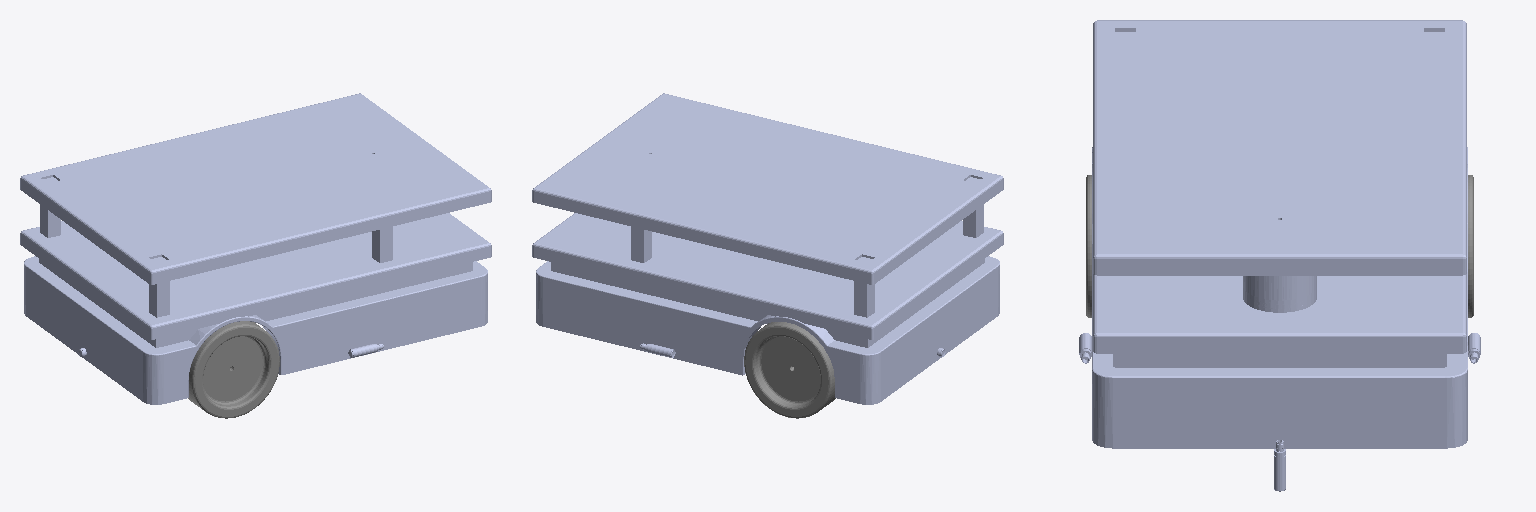
The robot description file, URDF, robot "scooby":
<?xml version="1.0" encoding="utf-8"?>
<!-- This URDF was automatically created by SolidWorks to URDF Exporter! Originally created by Stephen Brawner ([email redacted]) 
     Commit Version: 1.5.1-0-g916b5db  Build Version: 1.5.7152.31018
     For more information, please see http://wiki.ros.org/sw_urdf_exporter -->
<robot
  name="scooby">
  <link
    name="base_link">
    <inertial>
      <origin
        xyz="0.21675 -1.2917E-07 0.11346"
        rpy="0 0 0" />
      <mass
        value="7.4313" />
      <inertia
        ixx="0.31999"
        ixy="2.761E-07"
        ixz="0.014025"
        iyy="0.58221"
        iyz="-3.6194E-08"
        izz="0.76546" />
    </inertial>
    <visual>
      <origin
        xyz="0 0 0"
        rpy="0 0 0" />
      <geometry>
        <mesh
          filename="package://scooby_description/meshes/base_link.STL" />
      </geometry>
      <material
        name="">
        <color
          rgba="0.79216 0.81961 0.93333 1" />
      </material>
    </visual>
    <collision>
      <origin
        xyz="0 0 0"
        rpy="0 0 0" />
      <geometry>
        <mesh
          filename="package://scooby_description/meshes/base_link.STL" />
      </geometry>
    </collision>
  </link>
  <link
    name="Roda_L_Link">
    <inertial>
      <origin
        xyz="-2.81298471846436E-06 -0.00190513014972926 -1.07259302051244E-06"
        rpy="0 0 0" />
      <mass
        value="1.30641276335021" />
      <inertia
        ixx="0.00432108465434952"
        ixy="-7.93594005604532E-08"
        ixz="1.46087059834682E-08"
        iyy="0.00793978090282297"
        iyz="-3.02597946384683E-08"
        izz="0.00432105191183642" />
    </inertial>
    <visual>
      <origin
        xyz="0 0 0"
        rpy="0 0 0" />
      <geometry>
        <mesh
          filename="package://scooby_description/meshes/Roda_L_Link.dae" />
      </geometry>
      <material
        name="">
        <color
          rgba="0.6 0.6 0.6 1" />
      </material>
    </visual>
    <collision>
      <origin
        xyz="0 0 0"
        rpy="0 0 0" />
      <geometry>
        <mesh
          filename="package://scooby_description/meshes/Roda_L_Link.dae" />
      </geometry>
    </collision>
  </link>
  <joint
    name="Roda_L_Joint"
    type="continuous">
    <origin
      xyz="0 0.239 0"
      rpy="0 0 0" />
    <parent
      link="base_link" />
    <child
      link="Roda_L_Link" />
    <axis
      xyz="0 1 0" />
  </joint>
  <link
    name="Roda_R_Link">
    <inertial>
      <origin
        xyz="6.99451203511892E-07 0.00190513014972904 2.92815760366549E-06"
        rpy="0 0 0" />
      <mass
        value="1.30641276335021" />
      <inertia
        ixx="0.00432104871030407"
        ixy="-1.97327870118571E-08"
        ixz="9.91656523344508E-09"
        iyy="0.00793978090282298"
        iyz="-8.2608636027966E-08"
        izz="0.00432108785588188" />
    </inertial>
    <visual>
      <origin
        xyz="0 0 0"
        rpy="0 0 0" />
      <geometry>
        <mesh
          filename="package://scooby_description/meshes/Roda_R_Link.dae" />
      </geometry>
      <material
        name="">
        <color
          rgba="0.6 0.6 0.6 1" />
      </material>
    </visual>
    <collision>
      <origin
        xyz="0 0 0"
        rpy="0 0 0" />
      <geometry>
        <mesh
          filename="package://scooby_description/meshes/Roda_R_Link.dae" />
      </geometry>
    </collision>
  </link>
  <joint
    name="Roda_R_Joint"
    type="continuous">
    <origin
      xyz="0 -0.238999999999999 0"
      rpy="0 0 0" />
    <parent
      link="base_link" />
    <child
      link="Roda_R_Link" />
    <axis
      xyz="0 1 0" />
  </joint>
  <link
    name="Garfo_Link">
    <inertial>
      <origin
        xyz="0.00884475068968896 -4.19566628268031E-05 -0.0263954582097287"
        rpy="0 0 0" />
      <mass
        value="0.0563430319700028" />
      <inertia
        ixx="6.39445038316326E-05"
        ixy="1.72308550886072E-08"
        ixz="1.08977134057462E-05"
        iyy="6.73269867746683E-05"
        iyz="-3.73912351557962E-08"
        izz="2.76031242784496E-05" />
    </inertial>
    <visual>
      <origin
        xyz="0 0 0"
        rpy="0 0 0" />
      <geometry>
        <mesh
          filename="package://scooby_description/meshes/Garfo_Link.STL" />
      </geometry>
      <material
        name="">
        <color
          rgba="0.792156862745098 0.819607843137255 0.933333333333333 1" />
      </material>
    </visual>
    <collision>
      <origin
        xyz="0 0 0"
        rpy="0 0 0" />
      <geometry>
        <mesh
          filename="package://scooby_description/meshes/Garfo_Link.STL" />
      </geometry>
    </collision>
  </link>
  <joint
    name="Garfo_Joint"
    type="fixed">
    <origin
      xyz="0.394269999999998 0 0.0732499999999887"
      rpy="0 0 0" />
    <parent
      link="base_link" />
    <child
      link="Garfo_Link" />
    <axis
      xyz="0 0 1" />
  </joint>
  <link
    name="Castor_Link">
    <inertial>
      <origin
        xyz="-2.77555756156289E-17 0 1.14352971536391E-14"
        rpy="0 0 0" />
      <mass
        value="0.348290953635151" />
      <inertia
        ixx="0.00049482066193611"
        ixy="2.36990969633126E-06"
        ixz="-7.72435411786236E-20"
        iyy="0.00096680637046514"
        iyz="-6.56035547092344E-18"
        izz="0.000494808762570785" />
    </inertial>
    <visual>
      <origin
        xyz="0 0 0"
        rpy="0 0 0" />
      <geometry>
        <mesh
          filename="package://scooby_description/meshes/Castor_Link.STL" />
      </geometry>
      <material
        name="">
        <color
          rgba="0.792156862745098 0.819607843137255 0.933333333333333 1" />
      </material>
    </visual>
    <collision>
      <origin
        xyz="0 0 0"
        rpy="0 0 0" />
      <geometry>
        <mesh
          filename="package://scooby_description/meshes/Castor_Link.STL" />
      </geometry>
    </collision>
  </link>
  <joint
    name="Castor_Joint"
    type="fixed">
    <origin
      xyz="0.0325011020897832 -0.000163188702011818 -0.0982475529663621"
      rpy="0 0 0" />
    <parent
      link="Garfo_Link" />
    <child
      link="Castor_Link" />
    <axis
      xyz="0.00502095727558771 0.999987394914574 0" />
  </joint>
  <link
    name="UTS_F_Link">
    <inertial>
      <origin
        xyz="-7.71393398601994E-08 2.52135730494096E-06 -0.0392561091863952"
        rpy="0 0 0" />
      <mass
        value="0.0170733519956026" />
      <inertia
        ixx="4.13994216132343E-06"
        ixy="-2.01964830661405E-12"
        ixz="2.10210468566173E-11"
        iyy="4.13977834708148E-06"
        iyz="-4.07255189237447E-10"
        izz="6.28341642999686E-07" />
    </inertial>
    <visual>
      <origin
        xyz="0 0 0"
        rpy="0 0 0" />
      <geometry>
        <mesh
          filename="package://scooby_description/meshes/UTS_F_Link.dae" />
      </geometry>
      <material
        name="">
        <color
          rgba="0.792156862745098 0.819607843137255 0.933333333333333 1" />
      </material>
    </visual>
    <collision>
      <origin
        xyz="0 0 0"
        rpy="0 0 0" />
      <geometry>
        <mesh
          filename="package://scooby_description/meshes/UTS_F_Link.dae" />
      </geometry>
    </collision>
  </link>
  <joint
    name="UTS_F_Joint"
    type="fixed">
    <origin
      xyz="0.6 0 -0.02"
      rpy="0 0 0" />
    <parent
      link="base_link" />
    <child
      link="UTS_F_Link" />
    <axis
      xyz="0 0 0" />
  </joint>
  <link
    name="UTS_L_Link">
    <inertial>
      <origin
        xyz="2.64910496597381E-06 -0.0334042764769842 -2.51712962362483E-06"
        rpy="0 0 0" />
      <mass
        value="0.0170733519956026" />
      <inertia
        ixx="4.13994210270171E-06"
        ixy="3.52203444451159E-11"
        ixz="3.69846150785143E-12"
        iyy="6.28341642999685E-07"
        iyz="-4.06273554213128E-10"
        izz="4.13977840570322E-06" />
    </inertial>
    <visual>
      <origin
        xyz="0 0 0"
        rpy="0 0 0" />
      <geometry>
        <mesh
          filename="package://scooby_description/meshes/UTS_L_Link.dae" />
      </geometry>
      <material
        name="">
        <color
          rgba="0.792156862745098 0.819607843137255 0.933333333333333 1" />
      </material>
    </visual>
    <collision>
      <origin
        xyz="0 0 0"
        rpy="0 0 0" />
      <geometry>
        <mesh
          filename="package://scooby_description/meshes/UTS_L_Link.dae" />
      </geometry>
    </collision>
  </link>
  <joint
    name="UTS_L_Joint"
    type="fixed">
    <origin
      xyz="0.259267515975939 0.270588385101107 -0.0199999999999779"
      rpy="0 0 1.57" />
    <parent
      link="base_link" />
    <child
      link="UTS_L_Link" />
    <axis
      xyz="0 0 0" />
  </joint>
  <link
    name="UTS_B_Link">
    <inertial>
      <origin
        xyz="0.0319938908135459 2.52135732214942E-06 7.71393350307292E-08"
        rpy="0 0 0" />
      <mass
        value="0.0170733519956026" />
      <inertia
        ixx="6.28341642999686E-07"
        ixy="-4.07255189212023E-10"
        ixz="-2.10210468561838E-11"
        iyy="4.13977834708148E-06"
        iyz="2.0196483067209E-12"
        izz="4.13994216132343E-06" />
    </inertial>
    <visual>
      <origin
        xyz="0 0 0"
        rpy="0 0 0" />
      <geometry>
        <mesh
          filename="package://scooby_description/meshes/UTS_B_Link.dae" />
      </geometry>
      <material
        name="">
        <color
          rgba="0.792156862745098 0.819607843137255 0.933333333333333 1" />
      </material>
    </visual>
    <collision>
      <origin
        xyz="0 0 0"
        rpy="0 0 0" />
      <geometry>
        <mesh
          filename="package://scooby_description/meshes/UTS_B_Link.dae" />
      </geometry>
    </collision>
  </link>
  <joint
    name="UTS_B_Joint"
    type="fixed">
    <origin
      xyz="-0.199907999437737 0 -0.0199999999999651"
      rpy="0 0 0" />
    <parent
      link="base_link" />
    <child
      link="UTS_B_Link" />
    <axis
      xyz="0 0 0" />
  </joint>
  <link
    name="UTS_R_Link">
    <inertial>
      <origin
        xyz="-2.3625442814347E-06 0.033404276476984 2.51707821868896E-06"
        rpy="0 0 0" />
      <mass
        value="0.0170733519956026" />
      <inertia
        ixx="4.13994210038936E-06"
        ixy="-3.53464798371118E-11"
        ixz="-3.74928436870209E-12"
        iyy="6.28341642999685E-07"
        iyz="-4.06262599651277E-10"
        izz="4.13977840801553E-06" />
    </inertial>
    <visual>
      <origin
        xyz="0 0 0"
        rpy="0 0 0" />
      <geometry>
        <mesh
          filename="package://scooby_description/meshes/UTS_R_Link.dae" />
      </geometry>
      <material
        name="">
        <color
          rgba="0.792156862745098 0.819607843137255 0.933333333333333 1" />
      </material>
    </visual>
    <collision>
      <origin
        xyz="0 0 0"
        rpy="0 0 0" />
      <geometry>
        <mesh
          filename="package://scooby_description/meshes/UTS_R_Link.dae" />
      </geometry>
    </collision>
  </link>
  <joint
    name="UTS_R_Joint"
    type="fixed">
    <origin
      xyz="0.25927252840668 -0.270588385101102 -0.0199999999999779"
      rpy="0 0 -1.57" />
    <parent
      link="base_link" />
    <child
      link="UTS_R_Link" />
    <axis
      xyz="0 0 0" />
  </joint>
  <link
    name="IMU_F_Link">
    <inertial>
      <origin
        xyz="0.0285384053529935 0.0201456751136063 0.0163092719506913"
        rpy="0 0 0" />
      <mass
        value="0.0287238238507314" />
      <inertia
        ixx="6.62063880266102E-06"
        ixy="-4.29064250222228E-08"
        ixz="-3.31902748196911E-07"
        iyy="8.0283840404999E-06"
        iyz="-1.12404875338097E-09"
        izz="1.17697789687571E-05" />
    </inertial>
    <visual>
      <origin
        xyz="0 0 0"
        rpy="0 0 0" />
      <geometry>
        <mesh
          filename="package://scooby_description/meshes/IMU_F_Link.STL" />
      </geometry>
      <material
        name="">
        <color
          rgba="0.792156862745098 0.819607843137255 0.933333333333333 1" />
      </material>
    </visual>
    <collision>
      <origin
        xyz="0 0 0"
        rpy="0 0 0" />
      <geometry>
        <mesh
          filename="package://scooby_description/meshes/IMU_F_Link.STL" />
      </geometry>
    </collision>
  </link>
  <joint
    name="IMU_F_Joint"
    type="fixed">
    <origin
      xyz="0.473193361649098 -0.0204867843471963 0.0772499999999884"
      rpy="0 0 0" />
    <parent
      link="base_link" />
    <child
      link="IMU_F_Link" />
    <axis
      xyz="0 0 0" />
  </joint>
  
  <link
    name="GPS_Link">
    
    <visual>
      <origin
        xyz="0 0 0"
        rpy="0 0 0" />
      <geometry>
        <mesh
          filename="package://scooby_description/meshes/GPS_Link.STL" />
      </geometry>
      <material
        name="">
        <color
          rgba="0.992156862745098 0.519607843137255 0.933333333333333 1" />
      </material>
    </visual>
    <collision>
      <origin
        xyz="0 0 0"
        rpy="0 0 0" />
      <geometry>
        <mesh
          filename="package://scooby_description/meshes/GPS_Link.STL" />
      </geometry>
    </collision>
  </link>
  
  <joint
    name="GPS_Joint"
    type="fixed">
    <origin
      xyz="0.0 0 0.0"
      rpy="0 0 0" />
    <parent
      link="base_link" />
    <child
      link="GPS_Link" />
    <axis
      xyz="0 0 0" />
  </joint>
  
  <link
    name="Velodyne_Link">
    <inertial>
      <origin
        xyz="-0.000175935048768394 -1.85690131293548E-06 -0.00218953441715264"
        rpy="0 0 0" />
      <mass
        value="0.616657112047671" />
      <inertia
        ixx="0.000685216133120311"
        ixy="5.75061101111654E-09"
        ixz="-3.17368136017378E-06"
        iyy="0.00069184918266403"
        iyz="-3.8153237545175E-08"
        izz="0.000839096481546046" />
    </inertial>
    <visual>
      <origin
        xyz="0 0 0"
        rpy="0 0 0" />
      <geometry>
        <mesh
          filename="package://scooby_description/meshes/Velodyne_Link.STL" />
      </geometry>
      <material
        name="">
        <color
          rgba="0.796078431372549 0.823529411764706 0.937254901960784 1" />
      </material>
    </visual>
    <collision>
      <origin
        xyz="0 0 0"
        rpy="0 0 0" />
      <geometry>
        <mesh
          filename="package://scooby_description/meshes/Velodyne_Link.STL" />
      </geometry>
    </collision>
  </link>
  <joint
    name="Velodyne_Joint"
    type="fixed">
    <origin
      xyz="0.467200000000406 0 0.178135999995344"
      rpy="0 0 0" />
    <parent
      link="base_link" />
    <child
      link="Velodyne_Link" />
    <axis
      xyz="0 0 0" />
    <limit
      lower="0"
      upper="0"
      effort="0"
      velocity="0" />
  </joint>
  <link
    name="Care_B_Link">
    <inertial>
      <origin
        xyz="-0.176067724938736 7.37609973100462E-12 0.0225129088617784"
        rpy="0 0 0" />
      <mass
        value="1.8567074034704" />
      <inertia
        ixx="0.0426135335199479"
        ixy="-1.39306141329844E-16"
        ixz="-6.76460464357832E-05"
        iyy="0.00238312327270556"
        iyz="-3.99369956611014E-16"
        izz="0.0405582007456034" />
    </inertial>
    <visual>
      <origin
        xyz="0 0 0"
        rpy="0 0 0" />
      <geometry>
        <mesh
          filename="package://scooby_description/meshes/Care_B_Link.STL" />
      </geometry>
      <material
        name="">
        <color
          rgba="0.792156862745098 0.819607843137255 0.933333333333333 1" />
      </material>
    </visual>
    <collision>
      <origin
        xyz="0 0 0"
        rpy="0 0 0" />
      <geometry>
        <mesh
          filename="package://scooby_description/meshes/Care_B_Link.STL" />
      </geometry>
    </collision>
  </link>
  <joint
    name="Care_B_Joint"
    type="fixed">
    <origin
      xyz="0 0 0"
      rpy="0 0 0" />
    <parent
      link="base_link" />
    <child
      link="Care_B_Link" />
    <axis
      xyz="0 0 0" />
  </joint>
  <link
    name="Care_F_Link">
    <inertial>
      <origin
        xyz="0.574607724938728 6.66133814775094E-15 0.022512908861799"
        rpy="0 0 0" />
      <mass
        value="1.8567074034704" />
      <inertia
        ixx="0.0426135335199479"
        ixy="2.81327538039471E-16"
        ixz="6.76460464358051E-05"
        iyy="0.00238312327270556"
        iyz="3.98690766221456E-16"
        izz="0.0405582007456034" />
    </inertial>
    <visual>
      <origin
        xyz="0 0 0"
        rpy="0 0 0" />
      <geometry>
        <mesh
          filename="package://scooby_description/meshes/Care_F_Link.STL" />
      </geometry>
      <material
        name="">
        <color
          rgba="0.792156862745098 0.819607843137255 0.933333333333333 1" />
      </material>
    </visual>
    <collision>
      <origin
        xyz="0 0 0"
        rpy="0 0 0" />
      <geometry>
        <mesh
          filename="package://scooby_description/meshes/Care_F_Link.STL" />
      </geometry>
    </collision>
  </link>
  <joint
    name="Care_F_Joint"
    type="fixed">
    <origin
      xyz="0 0 0"
      rpy="0 0 0" />
    <parent
      link="base_link" />
    <child
      link="Care_F_Link" />
    <axis
      xyz="0 0 0" />
  </joint>
  <link
    name="Care_L_Link">
    <inertial>
      <origin
        xyz="0.264330203794624 0.24541257640313 0.0265078961663766"
        rpy="0 0 0" />
      <mass
        value="1.9759772221703" />
      <inertia
        ixx="0.00293544716160478"
        ixy="-4.66058269827048E-05"
        ixz="0.00194403207385531"
        iyy="0.0797694999222339"
        iyz="9.28698331484054E-05"
        izz="0.0771912041944294" />
    </inertial>
    <visual>
      <origin
        xyz="0 0 0"
        rpy="0 0 0" />
      <geometry>
        <mesh
          filename="package://scooby_description/meshes/Care_L_Link.STL" />
      </geometry>
      <material
        name="">
        <color
          rgba="0.792156862745098 0.819607843137255 0.933333333333333 1" />
      </material>
    </visual>
    <collision>
      <origin
        xyz="0 0 0"
        rpy="0 0 0" />
      <geometry>
        <mesh
          filename="package://scooby_description/meshes/Care_L_Link.STL" />
      </geometry>
    </collision>
  </link>
  <joint
    name="Care_L_Joint"
    type="fixed">
    <origin
      xyz="0 0 0"
      rpy="0 0 0" />
    <parent
      link="base_link" />
    <child
      link="Care_L_Link" />
    <axis
      xyz="0 0 0" />
  </joint>
  <link
    name="Care_R_Link">
    <inertial>
      <origin
        xyz="0.264376340654929 -0.245409762504832 0.0265033887485013"
        rpy="0 0 0" />
      <mass
        value="1.97563282149046" />
      <inertia
        ixx="0.00293446615216118"
        ixy="4.8077372934562E-05"
        ixz="0.00194167462287474"
        iyy="0.0797422362000649"
        iyz="-9.30136202672319E-05"
        izz="0.0771647418838509" />
    </inertial>
    <visual>
      <origin
        xyz="0 0 0"
        rpy="0 0 0" />
      <geometry>
        <mesh
          filename="package://scooby_description/meshes/Care_R_Link.STL" />
      </geometry>
      <material
        name="">
        <color
          rgba="0.792156862745098 0.819607843137255 0.933333333333333 1" />
      </material>
    </visual>
    <collision>
      <origin
        xyz="0 0 0"
        rpy="0 0 0" />
      <geometry>
        <mesh
          filename="package://scooby_description/meshes/Care_R_Link.STL" />
      </geometry>
    </collision>
  </link>
  <joint
    name="Care_R_Joint"
    type="fixed">
    <origin
      xyz="0 0 0"
      rpy="0 0 0" />
    <parent
      link="base_link" />
    <child
      link="Care_R_Link" />
    <axis
      xyz="0 0 0" />
  </joint>
  <link
    name="Care_Down_Velodyne_Link">
    <inertial>
      <origin
        xyz="0.200428165402292 3.77475828372553E-15 0.133865391513595"
        rpy="0 0 0" />
      <mass
        value="2.64433243116652" />
      <inertia
        ixx="0.0752744606048509"
        ixy="-6.35362185348273E-16"
        ixz="-1.11312586615544E-05"
        iyy="0.157357698609685"
        iyz="1.04302544492605E-15"
        izz="0.232339321084902" />
    </inertial>
    <visual>
      <origin
        xyz="0 0 0"
        rpy="0 0 0" />
      <geometry>
        <mesh
          filename="package://scooby_description/meshes/Care_Down_Velodyne_Link.dae" />
      </geometry>
      <material
        name="">
        <color
          rgba="0.792156862745098 0.819607843137255 0.933333333333333 1" />
      </material>
    </visual>
    <collision>
      <origin
        xyz="0 0 0"
        rpy="0 0 0" />
      <geometry>
        <mesh
          filename="package://scooby_description/meshes/Care_Down_Velodyne_Link.dae" />
      </geometry>
    </collision>
  </link>
  <joint
    name="Care_Down_Velodyne_Joint"
    type="fixed">
    <origin
      xyz="0 0 0"
      rpy="0 0 0" />
    <parent
      link="base_link" />
    <child
      link="Care_Down_Velodyne_Link" />
    <axis
      xyz="0 0 0" />
  </joint>
  <link
    name="Care_UP_Velodyne_Link">
    <inertial>
      <origin
        xyz="0.20042816540229 7.21644966006352E-15 0.253865391513584"
        rpy="0 0 0" />
      <mass
        value="2.64433243116651" />
      <inertia
        ixx="0.0752744606048506"
        ixy="-6.03012411619649E-16"
        ixz="-1.11312586615652E-05"
        iyy="0.157357698609684"
        iyz="3.75936473714349E-19"
        izz="0.232339321084901" />
    </inertial>
    <visual>
      <origin
        xyz="0 0 0"
        rpy="0 0 0" />
      <geometry>
        <mesh
          filename="package://scooby_description/meshes/Care_UP_Velodyne_Link.dae" />
      </geometry>
      <material
        name="">
        <color
          rgba="0.792156862745098 0.819607843137255 0.933333333333333 1" />
      </material>
    </visual>
    <collision>
      <origin
        xyz="0 0 0"
        rpy="0 0 0" />
      <geometry>
        <mesh
          filename="package://scooby_description/meshes/Care_UP_Velodyne_Link.dae" />
      </geometry>
    </collision>
  </link>
  <joint
    name="Care_UP_Velodyne_Joint"
    type="fixed">
    <origin
      xyz="0 0 0"
      rpy="0 0 0" />
    <parent
      link="base_link" />
    <child
      link="Care_UP_Velodyne_Link" />
    <axis
      xyz="0 0 0" />
  </joint>
  <!-- <link
    name="Suporte_Link">
    <inertial>
      <origin
        xyz="0.0293713242309817 8.43769498715119E-15 0.674844412986615"
        rpy="0 0 0" />
      <mass
        value="2.94037397080765" />
      <inertia
        ixx="0.153372096477937"
        ixy="-2.3882952638814E-17"
        ixz="0.0254651227952844"
        iyy="0.148755529814575"
        iyz="4.44512295050179E-16"
        izz="0.156739156755189" />
    </inertial>
    <visual>
      <origin
        xyz="0 0 0"
        rpy="0 0 0" />
      <geometry>
        <mesh
          filename="package://scooby_description/meshes/Suporte_Link.dae" />
      </geometry>
      <material
        name="">
        <color
          rgba="0.792156862745098 0.819607843137255 0.933333333333333 1" />
      </material>
    </visual>
    <collision>
      <origin
        xyz="0 0 0"
        rpy="0 0 0" />
      <geometry>
        <mesh
          filename="package://scooby_description/meshes/Suporte_Link.dae" />
      </geometry>
    </collision>
  </link>
  <joint
    name="Suporte_Joint"
    type="fixed">
    <origin
      xyz="0 0 0"
      rpy="0 0 0" />
    <parent
      link="base_link" />
    <child
      link="Suporte_Link" />
    <axis
      xyz="0 0 0" />
  </joint> -->
  
  
</robot>

--- What the picture shows (computed from the rendered views, not written in the file) ---
The picture shows the robot from 3 angles, left to right: view 1: azimuth 30°, elevation 25°; view 2: azimuth 150°, elevation 25°; view 3: azimuth 270°, elevation 25°; orthographic projection.
Model scooby with 18 links and 17 joints (2 continuous, 15 fixed), rooted at base_link, posed all joints at 0.
Links seen in each view (by area): view 1: Care_UP_Velodyne_Link, Care_Down_Velodyne_Link, Care_R_Link, Care_B_Link, Roda_R_Link, base_link, Care_F_Link; view 2: Care_UP_Velodyne_Link, Care_Down_Velodyne_Link, Care_L_Link, Care_B_Link, Roda_L_Link, base_link, Care_F_Link; view 3: Care_UP_Velodyne_Link, Care_F_Link, Care_Down_Velodyne_Link, Velodyne_Link, Roda_L_Link, Roda_R_Link, UTS_F_Link.
Link boxes in pixels (box(x1,y1,x2,y2)): Care_UP_Velodyne_Link: box(20, 93, 491, 284); Care_Down_Velodyne_Link: box(20, 213, 491, 339); Care_R_Link: box(157, 262, 479, 403); Care_B_Link: box(24, 257, 164, 404); Roda_R_Link: box(188, 321, 279, 418); base_link: box(40, 177, 392, 317); Care_F_Link: box(472, 261, 487, 326); Care_UP_Velodyne_Link: box(532, 93, 1003, 284); Care_Down_Velodyne_Link: box(532, 213, 1003, 339); Care_L_Link: box(544, 262, 866, 403); Care_B_Link: box(859, 257, 999, 404); Roda_L_Link: box(744, 322, 835, 418); base_link: box(631, 177, 983, 317); Care_F_Link: box(536, 261, 551, 326); Care_UP_Velodyne_Link: box(1093, 20, 1466, 275); Care_F_Link: box(1092, 354, 1467, 448); Care_Down_Velodyne_Link: box(1093, 274, 1466, 353); Velodyne_Link: box(1243, 276, 1316, 312); Roda_L_Link: box(1468, 175, 1473, 317); Roda_R_Link: box(1086, 175, 1091, 317); UTS_F_Link: box(1274, 440, 1285, 491).
Bounding box of the posed robot: 0.8109 × 0.5591 × 0.36 m (x, y, z).
Meshes: 18 distinct files referenced, 17 mesh visuals loaded (9 binary STL, 8 Collada DAE); not drawn: 1 (reference not matched to a file when rendering).
